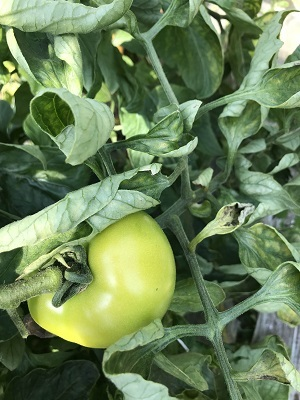immature-tomato: (29, 248, 172, 324)
